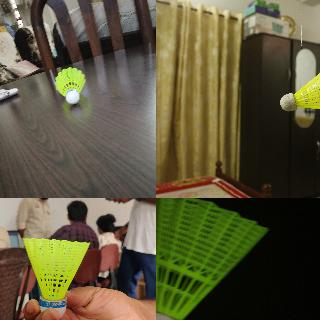shuttlecock: (156, 198, 269, 319), (22, 238, 90, 316), (279, 69, 319, 111), (54, 68, 86, 104)
